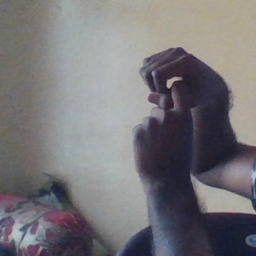Q: (119, 37, 230, 173)
